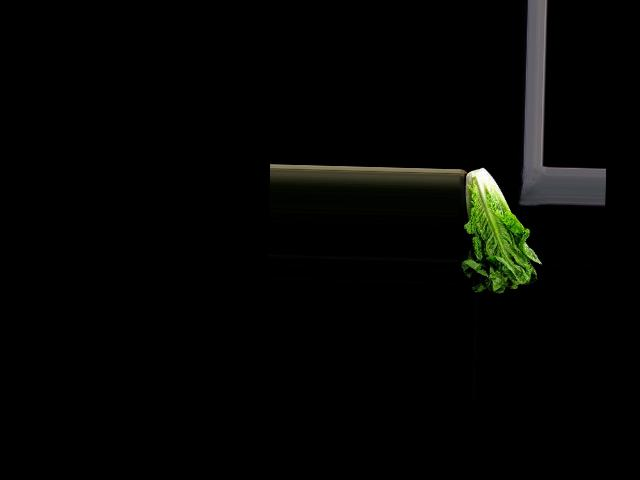lettuce: (465, 169, 539, 290)
